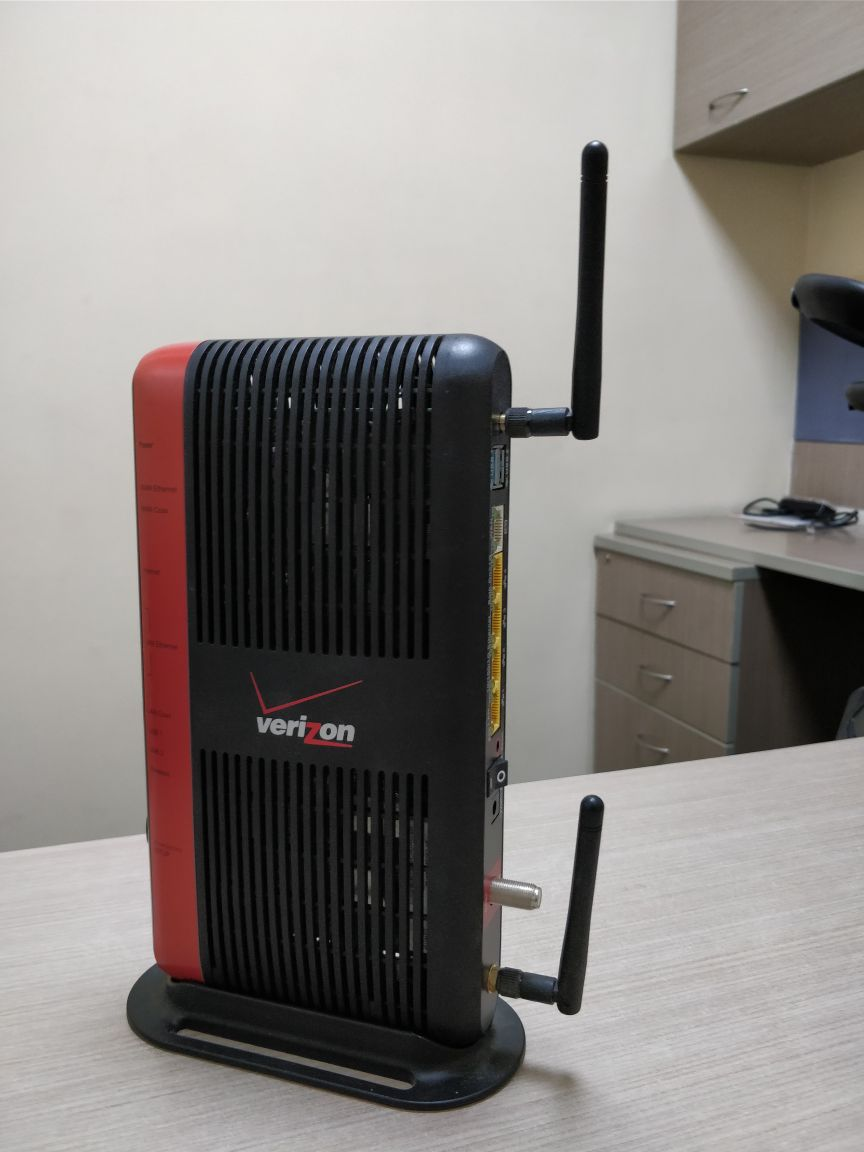Verizon Router: (80, 292, 636, 1118)
